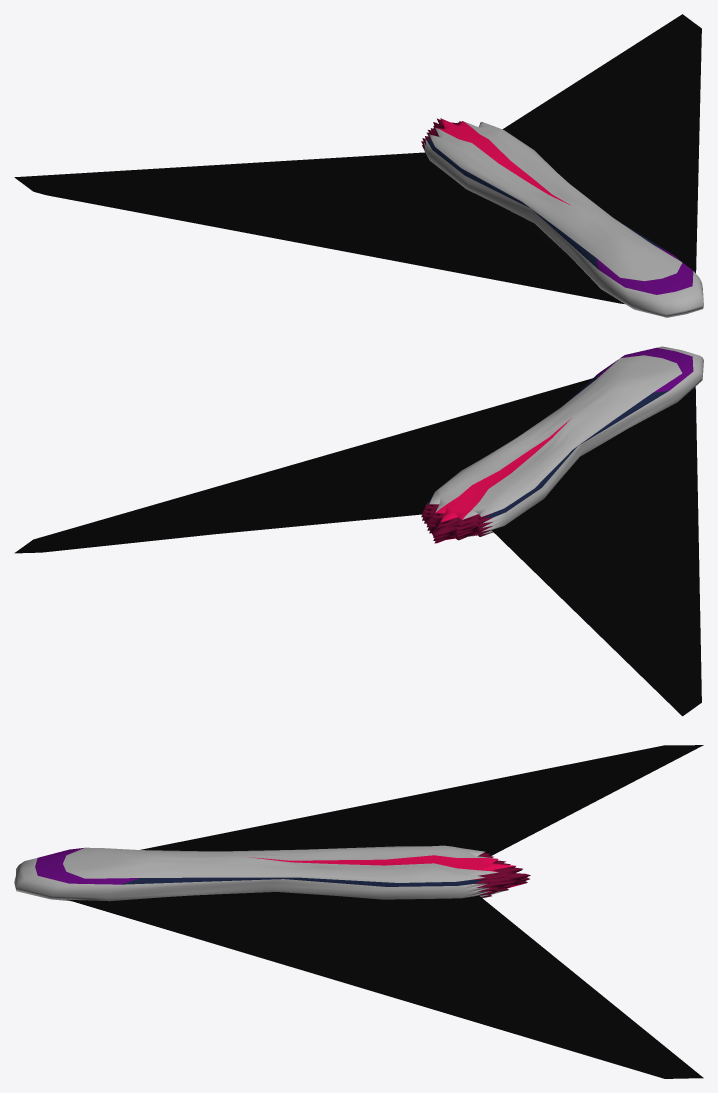
Rendered from playership.fbx.
The picture shows the model from 3 angles, top to bottom: view 1: azimuth 30°, elevation 25°; view 2: azimuth 150°, elevation 25°; view 3: azimuth 270°, elevation 25°; orthographic projection. The views are drawn at different scales.
Visible parts, largest first — view 1: playership; view 2: playership; view 3: playership.
Boxes of the visible parts, left/top/right/bottom form: playership: left=14, top=14, right=703, bottom=317; playership: left=14, top=346, right=703, bottom=716; playership: left=14, top=745, right=703, bottom=1078.
Bounding box in the file's own units: 312 × 27.38 × 273.
